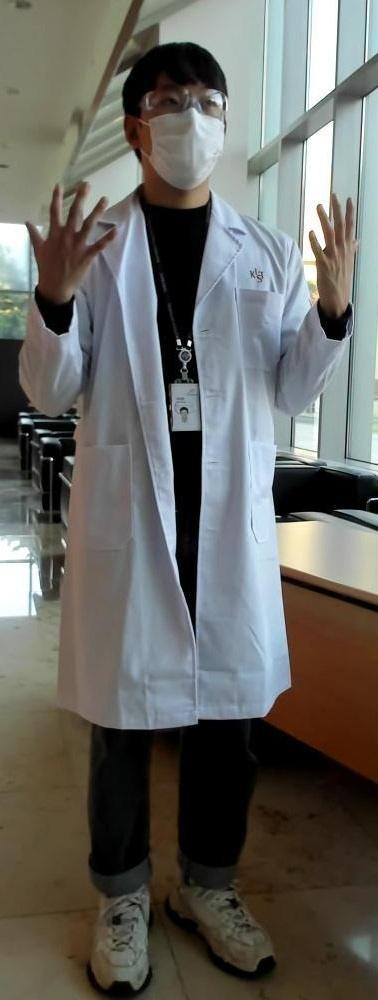lab_coat: (77, 252, 302, 715)
